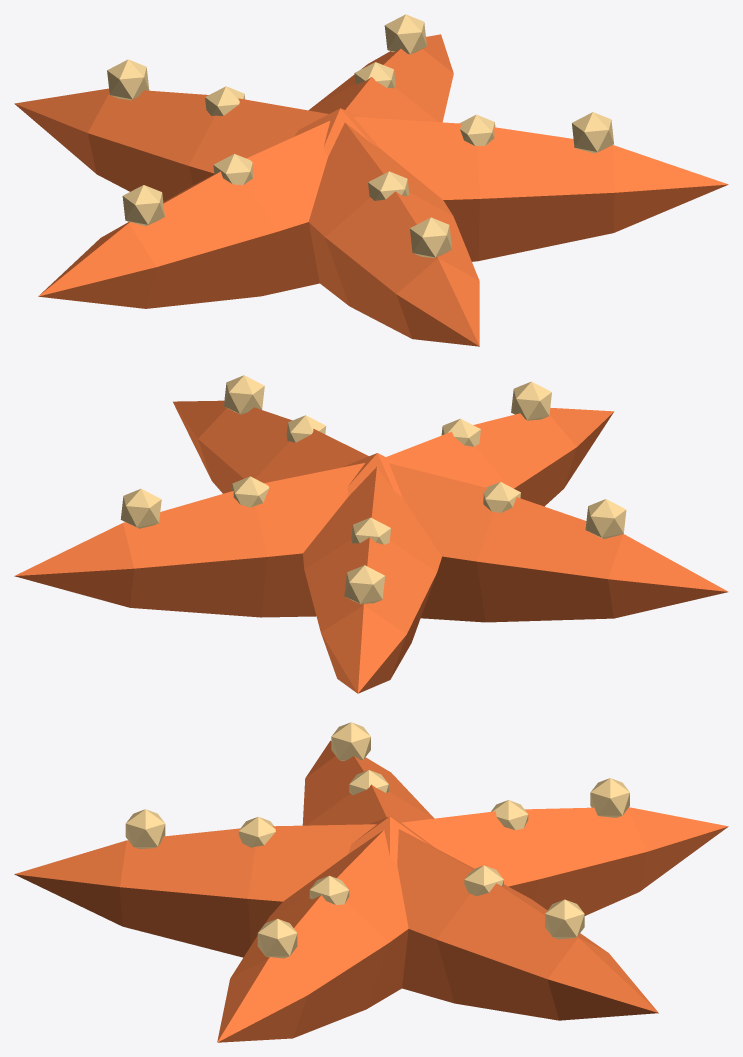
The model's file is Starfish.obj.
3 views of the same model, one above another, from view 1: azimuth 30°, elevation 25°; view 2: azimuth 150°, elevation 25°; view 3: azimuth 270°, elevation 25° (orthographic). The views are drawn at different scales.
Visible parts, largest first — view 1: Starfish; view 2: Starfish; view 3: Starfish.
Boxes of the visible parts, x1=… form: Starfish: x1=14, y1=14, x2=728, y2=346; Starfish: x1=14, y1=375, x2=728, y2=693; Starfish: x1=14, y1=722, x2=728, y2=1042.
Size of the model in its own units: 0.3006 by 0.077 by 0.3006.
